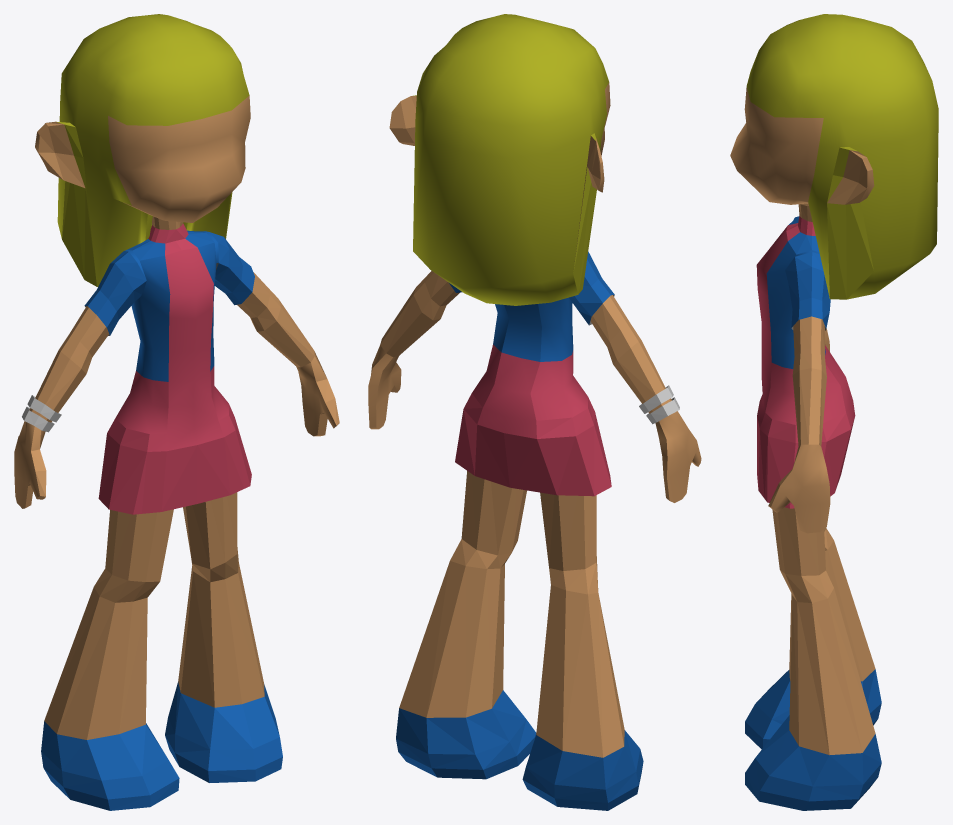
Rendered from Mindie.fbx.
3 renders of one model, left to right at view 1: azimuth 30°, elevation 25°; view 2: azimuth 150°, elevation 25°; view 3: azimuth 270°, elevation 25°, orthographic. The views are drawn at different scales.
Visible parts, largest first — view 1: cuerpo; view 2: cuerpo; view 3: cuerpo.
Part boxes in pixels (x1,y1,x2,y2): cuerpo: (14, 14, 339, 810); cuerpo: (368, 14, 701, 810); cuerpo: (730, 14, 938, 810).
Bounding box in the file's own units: 62.09 × 144 × 36.96.
